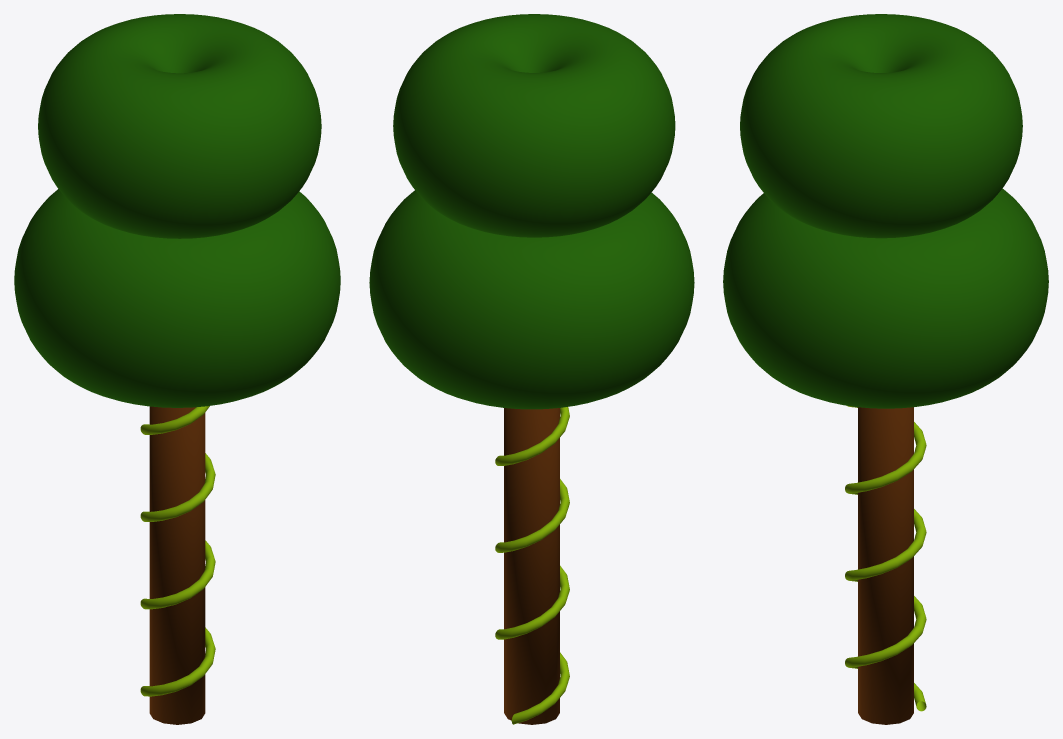
File: l_drzewo_duze_1.fbx
3 renders of one model, left to right at view 1: azimuth 30°, elevation 25°; view 2: azimuth 150°, elevation 25°; view 3: azimuth 270°, elevation 25°, orthographic.
Visible parts, largest first — view 1: Torus.002; view 2: Torus.002; view 3: Torus.002.
Part boxes in pixels (box(x1,y1,x2,y2)): Torus.002: box(14, 14, 340, 724); Torus.002: box(369, 14, 694, 724); Torus.002: box(723, 14, 1048, 724).
Size of the model in its own units: 768 by 1727 by 768.
